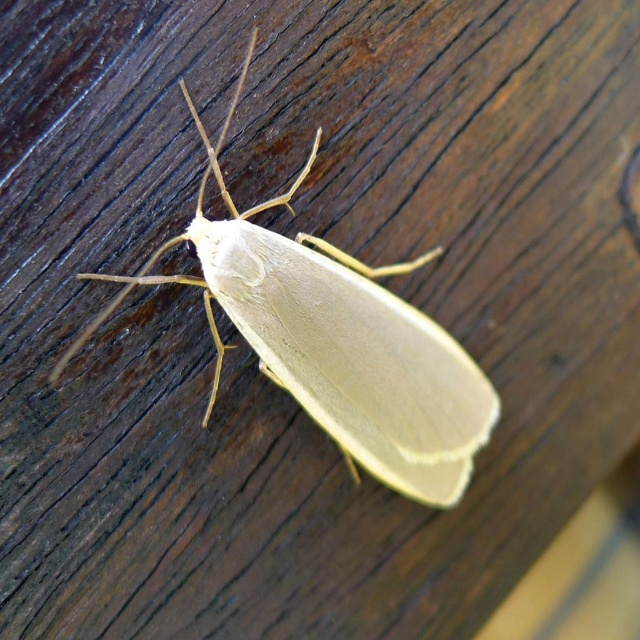Moths and butterflies: (50, 22, 504, 513)
